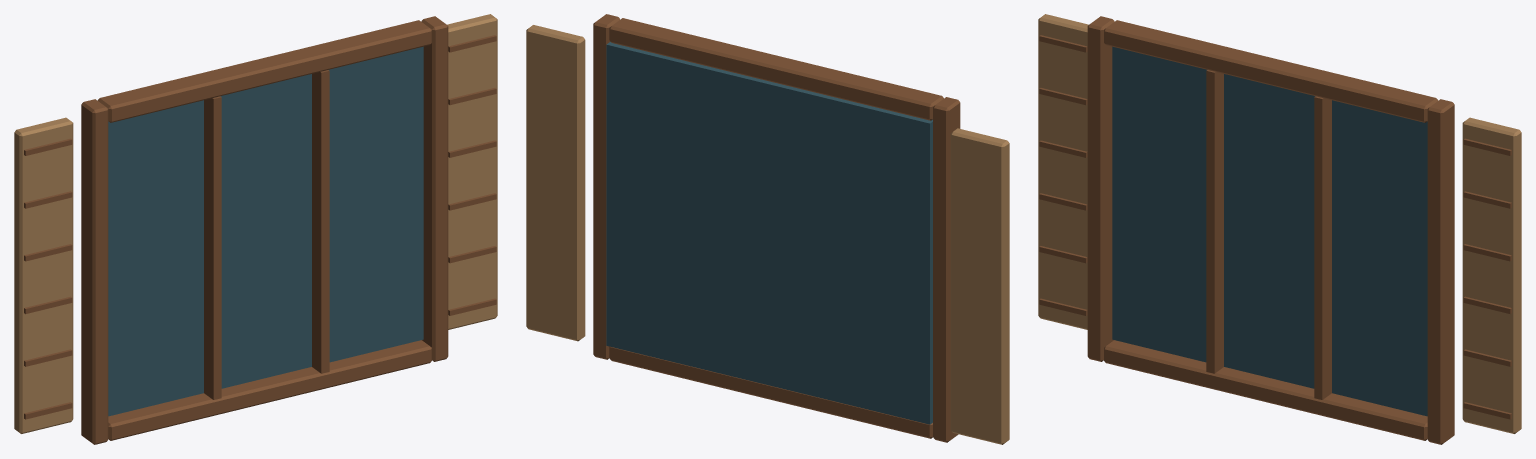
The model's file is window_07.glb.
3 views of the same model, side by side, from view 1: azimuth 30°, elevation 25°; view 2: azimuth 150°, elevation 25°; view 3: azimuth 330°, elevation 25° (orthographic).
Parts seen in each view (by area): view 1: window_07; view 2: window_07; view 3: window_07.
Part boxes in pixels (bbox=[...]): window_07: bbox=[14, 14, 497, 444]; window_07: bbox=[526, 14, 1009, 444]; window_07: bbox=[1038, 14, 1521, 444].
Bounding box in the file's own units: 2.66 × 1.78 × 0.185.
